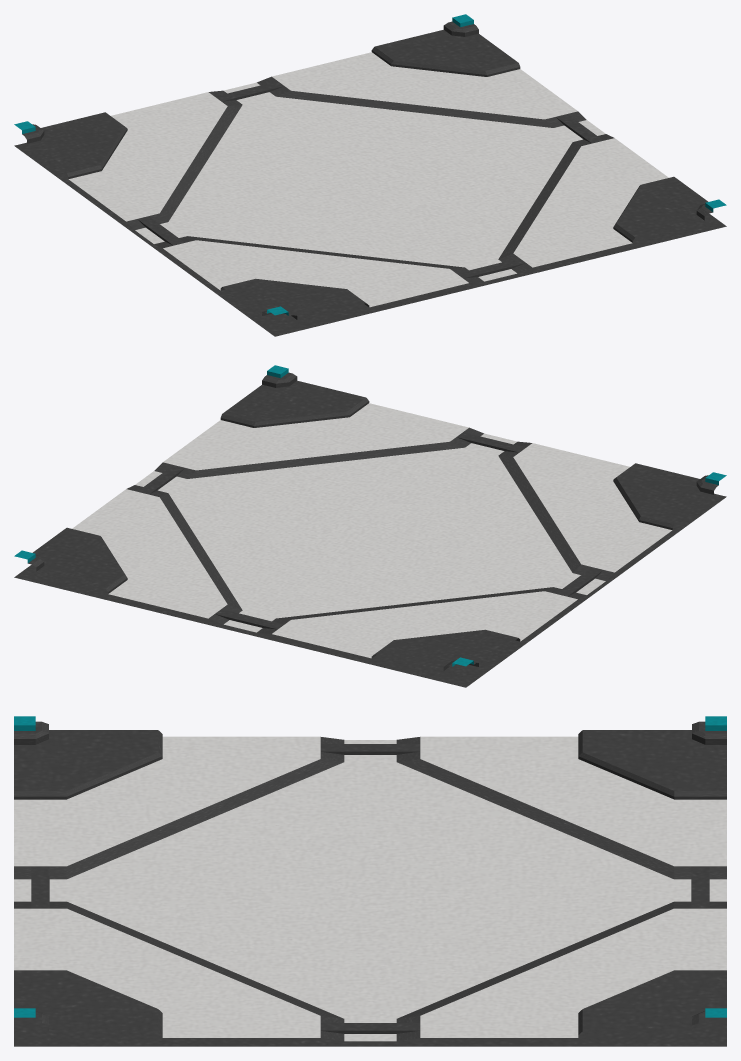
The model's file is Floor_1_XShape_Blank_LOD0.fbx.
3 views of the same model, one above another, from view 1: azimuth 30°, elevation 25°; view 2: azimuth 150°, elevation 25°; view 3: azimuth 270°, elevation 25° (orthographic). The views are drawn at different scales.
Visible parts, largest first — view 1: Floor_1_XShape_Blank_LOD0; view 2: Floor_1_XShape_Blank_LOD0; view 3: Floor_1_XShape_Blank_LOD0.
Boxes of the visible parts, x1,y1,x2,y2 form: Floor_1_XShape_Blank_LOD0: (14, 14, 726, 336); Floor_1_XShape_Blank_LOD0: (14, 365, 726, 687); Floor_1_XShape_Blank_LOD0: (14, 716, 726, 1046).
Size of the model in its own units: 200 by 9 by 200.
